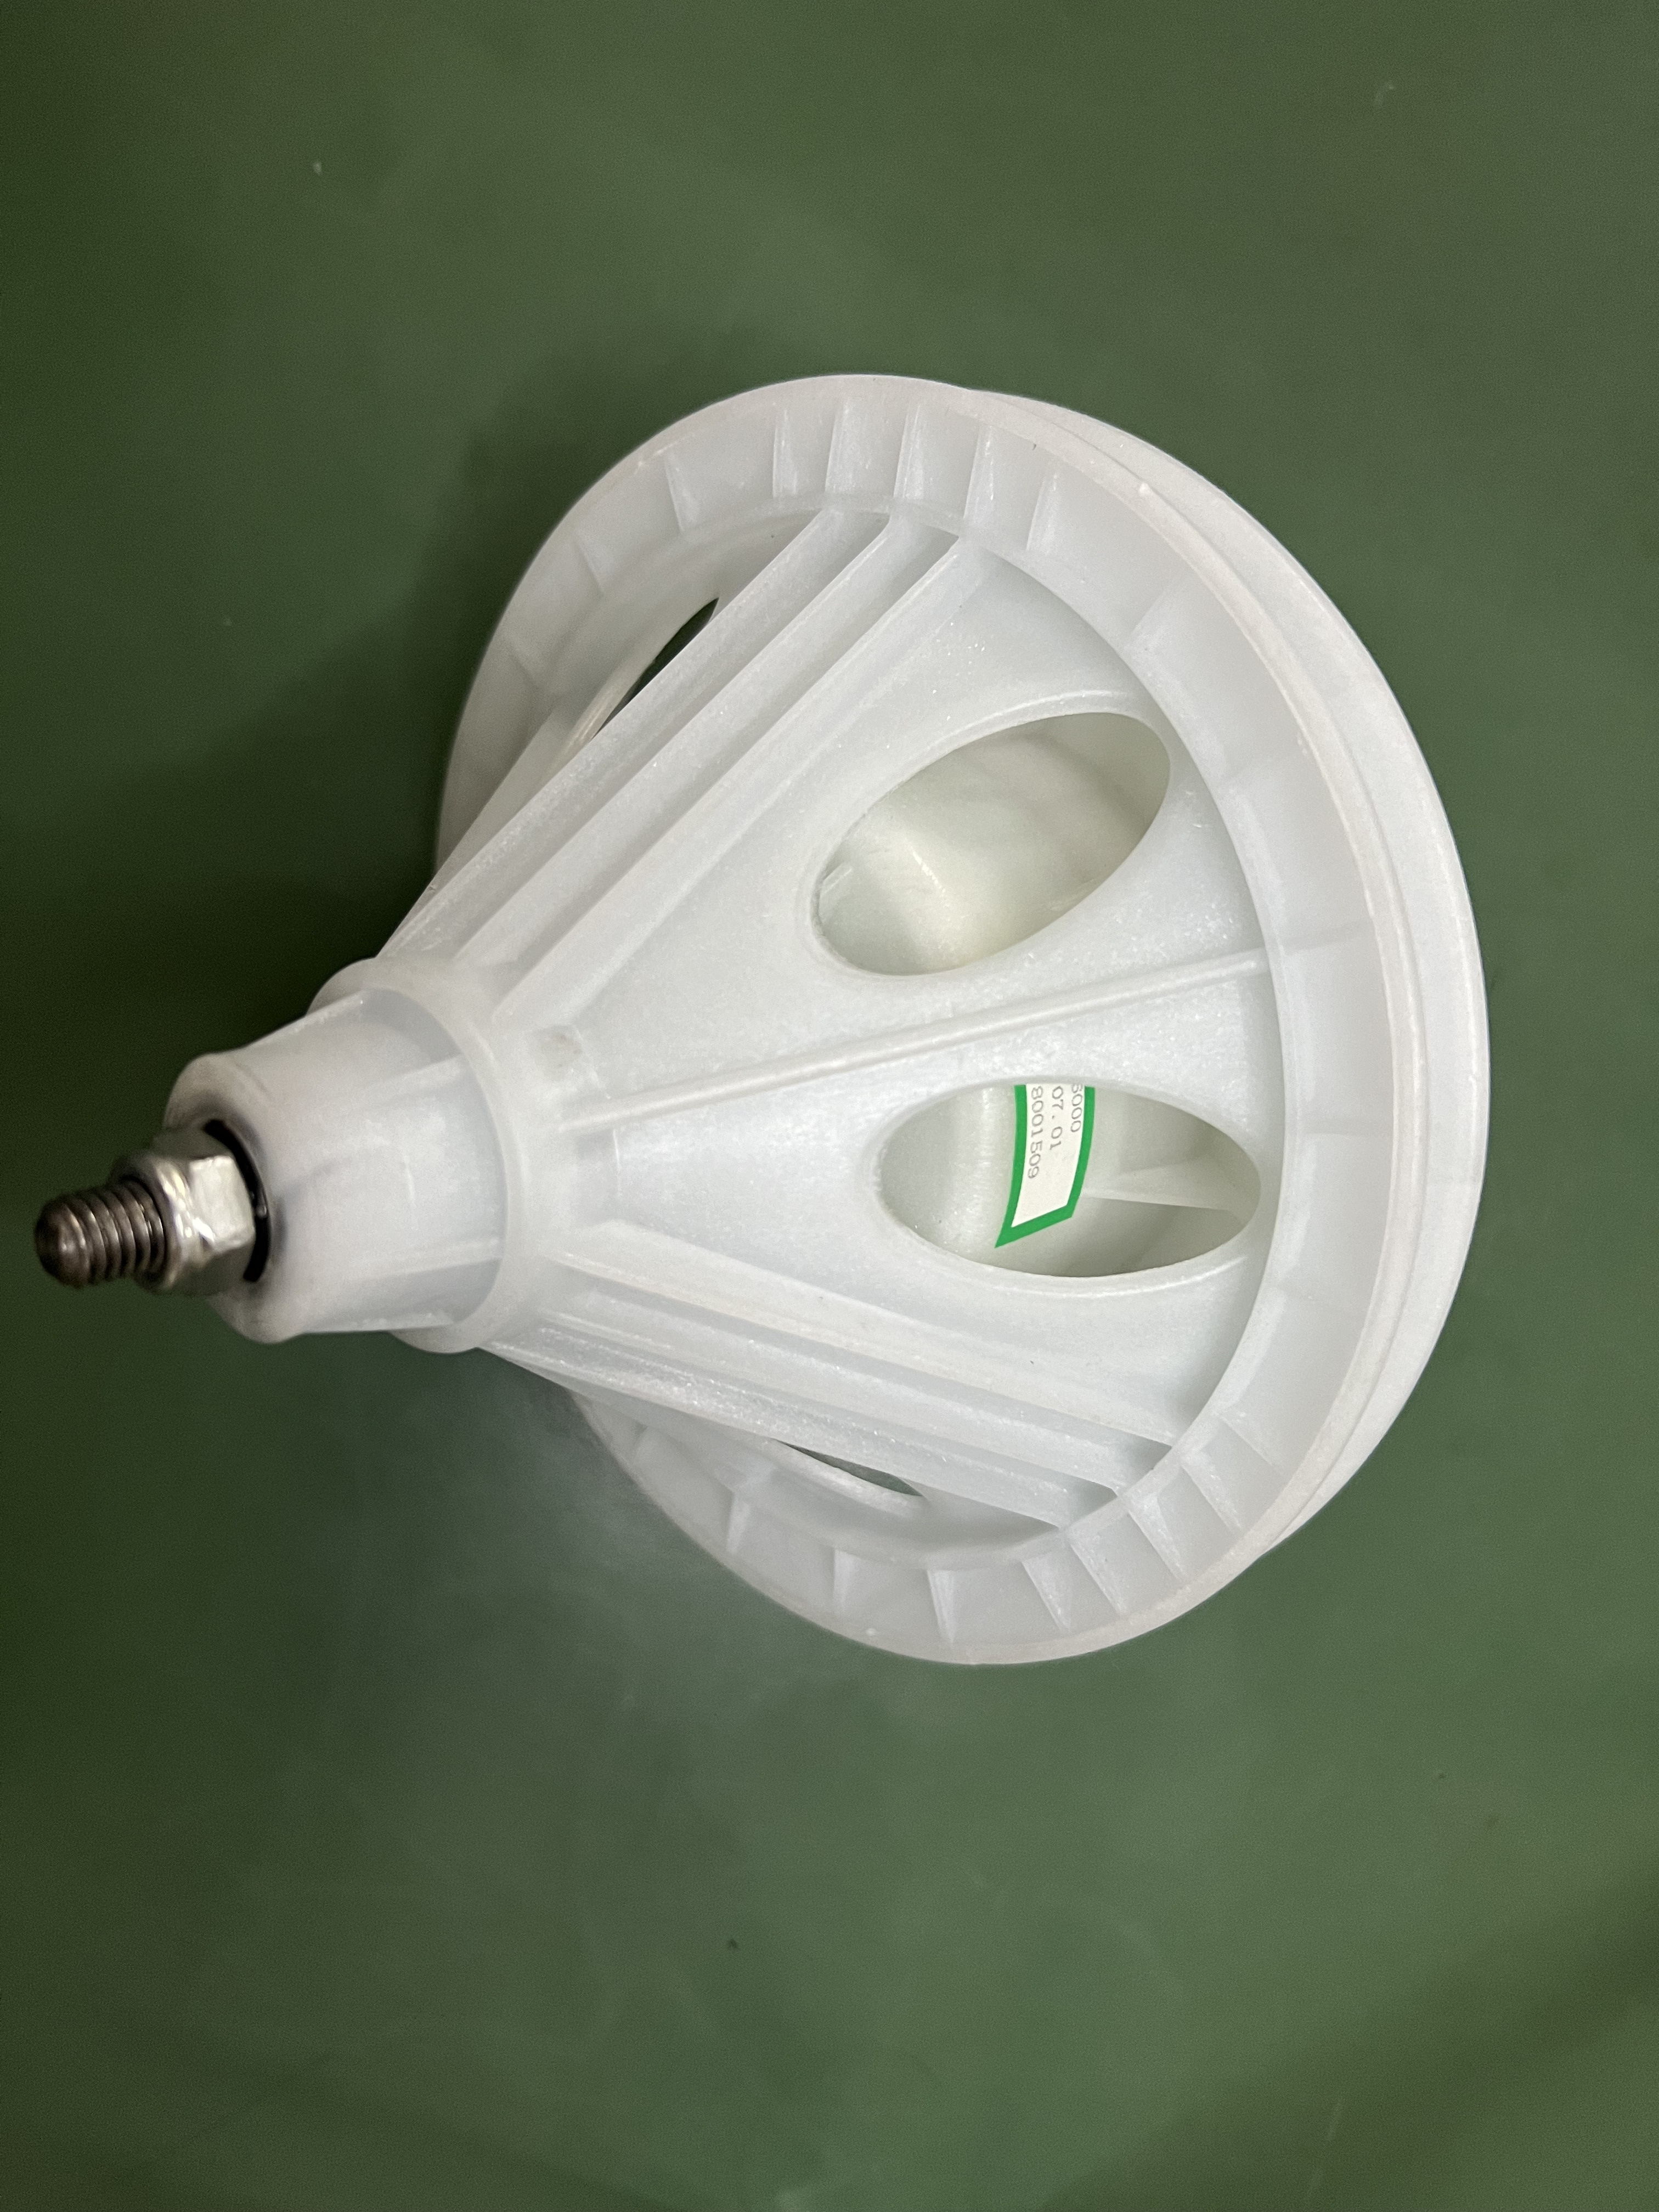gear_box_ovul: (64, 369, 1495, 1660)
